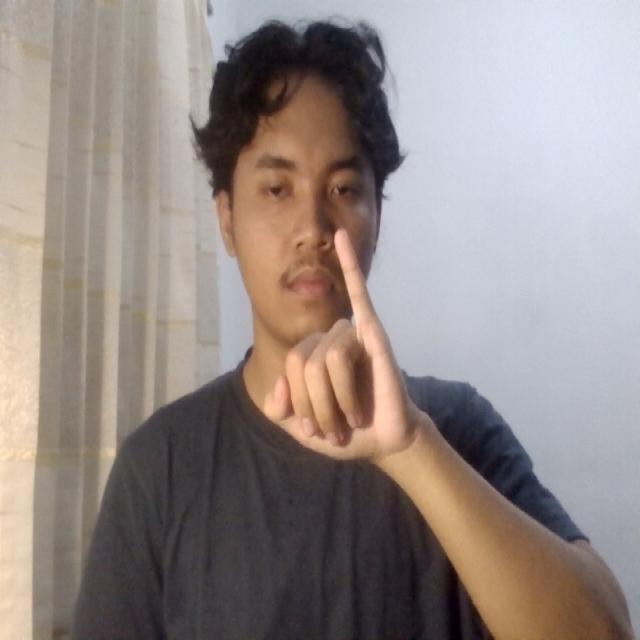Hello: (240, 215, 435, 484)
